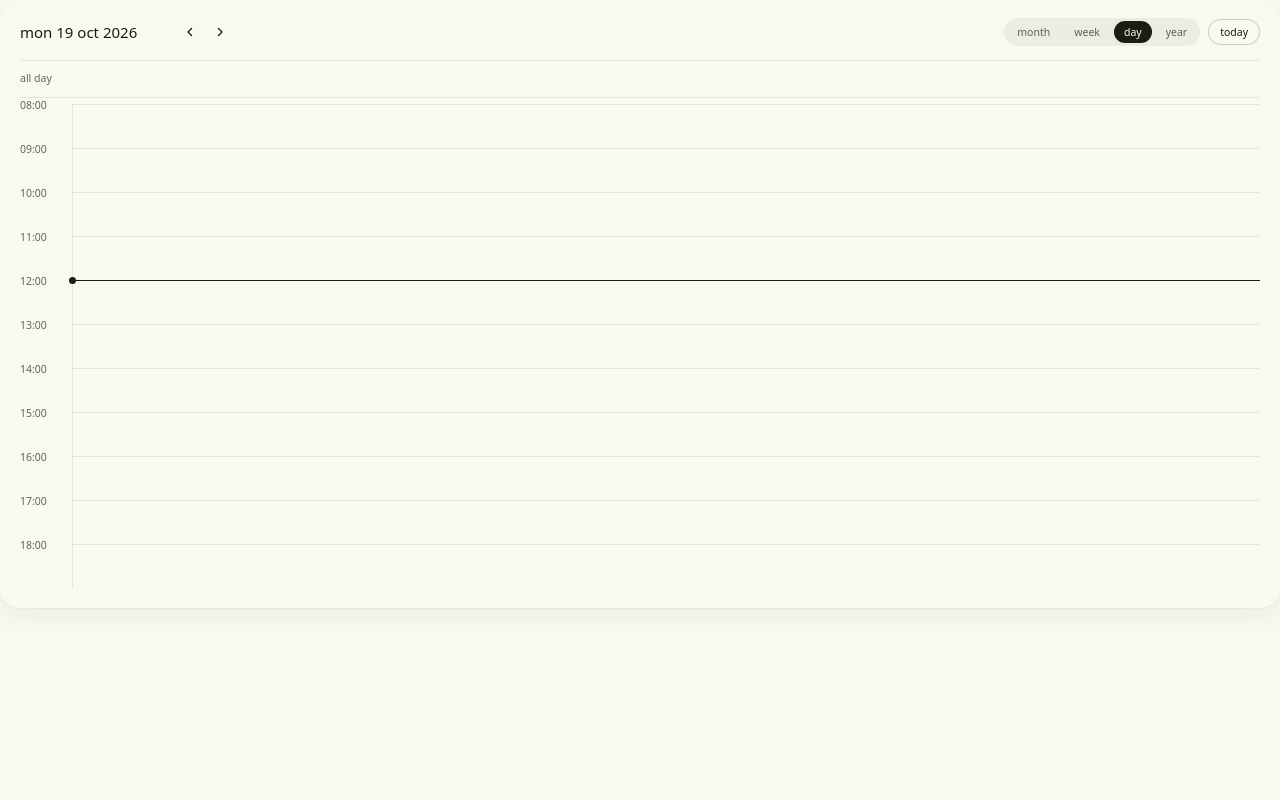
Test: day header (KAN-455) › when the span is day, the period is the day, prev and next step a day, and today stays on the day span
Expected: the text "mon 19 oct 2026" is shown, [20, 22, 137, 42]
Expected: the radio button labelled "day" is checked, [1114, 21, 1152, 43]
Click the button named "Previous day".
click(190, 32)  # box [176, 18, 204, 46]
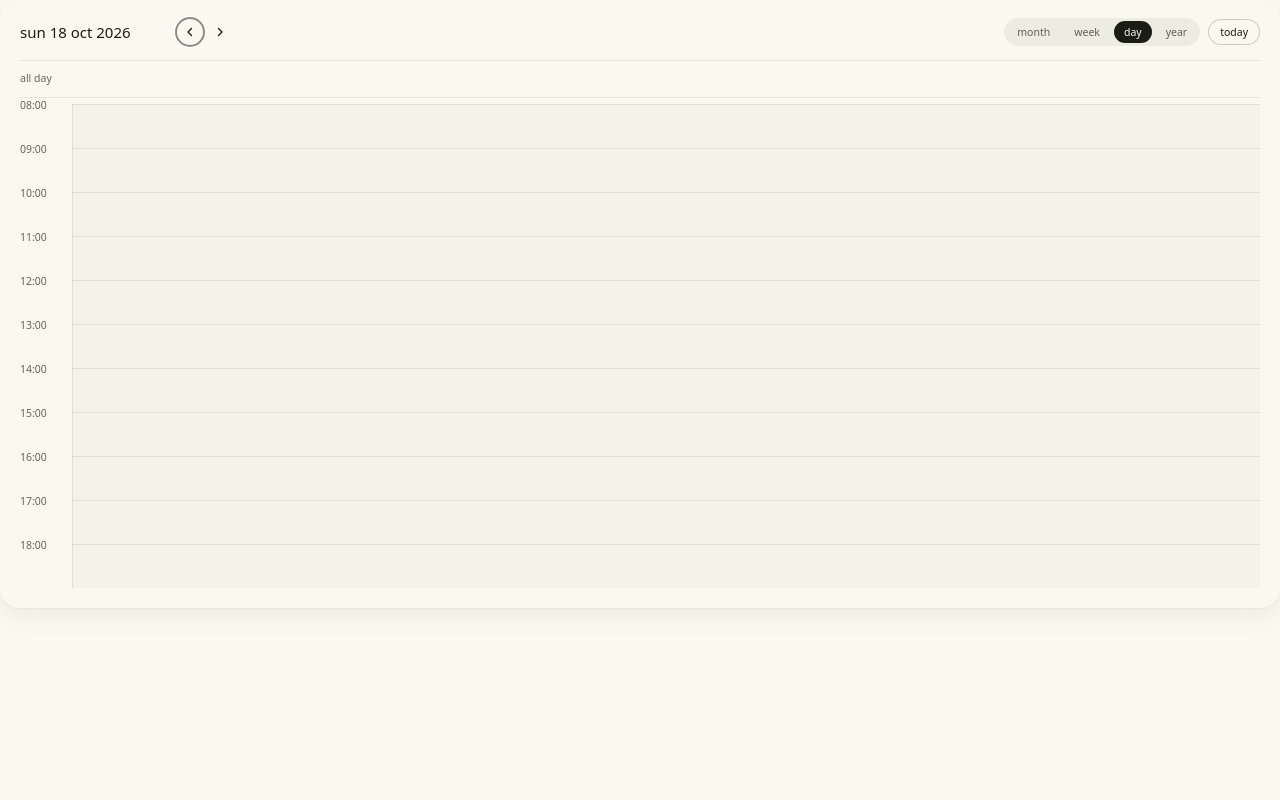
Expected: the radio button labelled "day" is checked, [1114, 21, 1152, 43]
Expected: the text "sun 18 oct 2026" is shown, [20, 22, 131, 42]
Click the button named "Next day".
click(220, 32)  # box [206, 18, 234, 46]
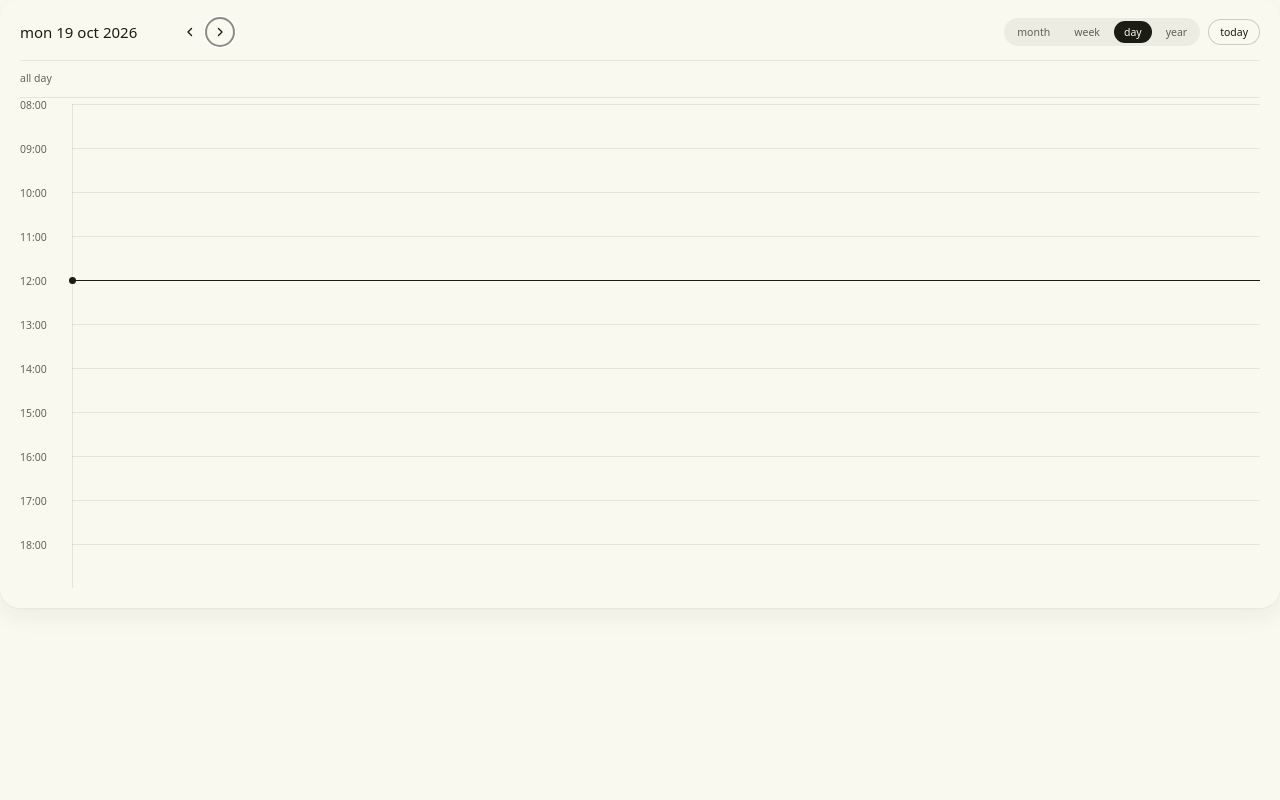
Click the button named "Next day".
click(220, 32)  # box [206, 18, 234, 46]
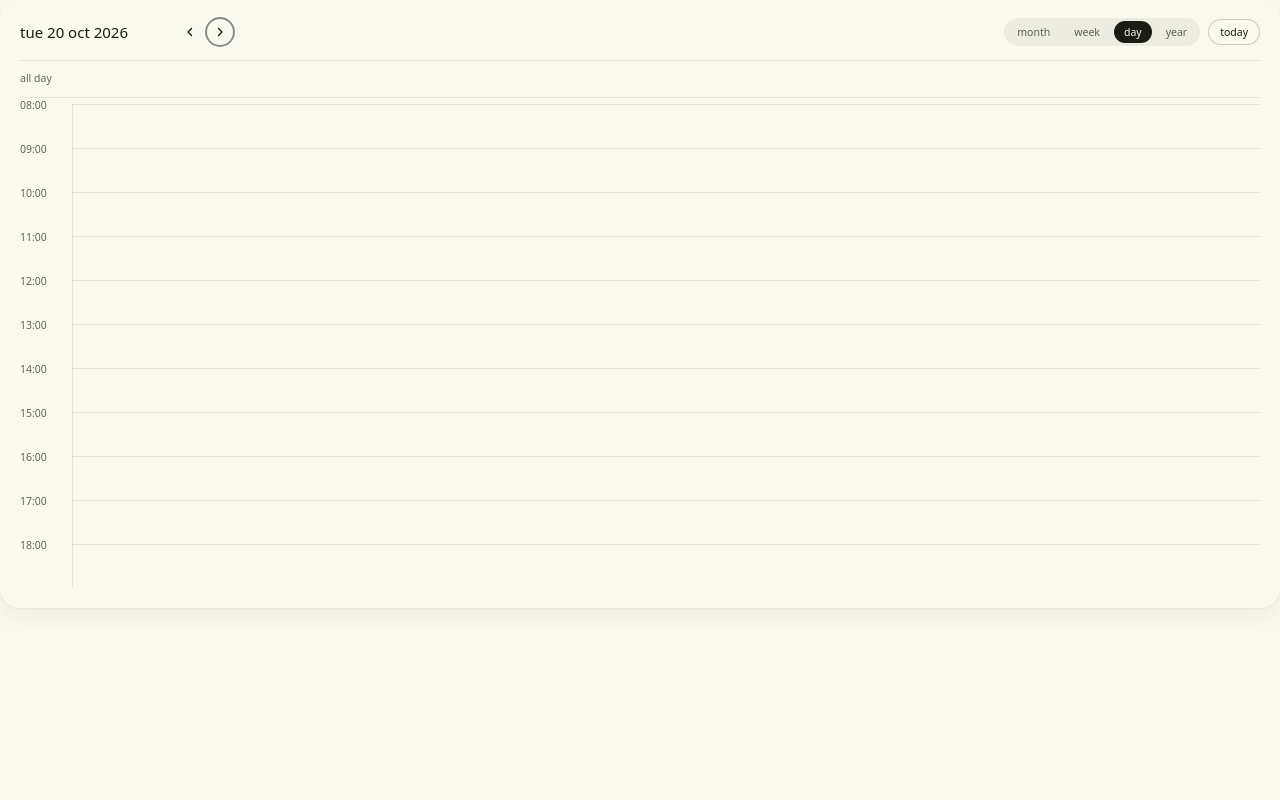
Expected: the radio button labelled "day" is checked, [1114, 21, 1152, 43]
Expected: the text "tue 20 oct 2026" is shown, [20, 22, 128, 42]
Click the button "today".
click(1234, 32)  # box [1208, 19, 1260, 45]
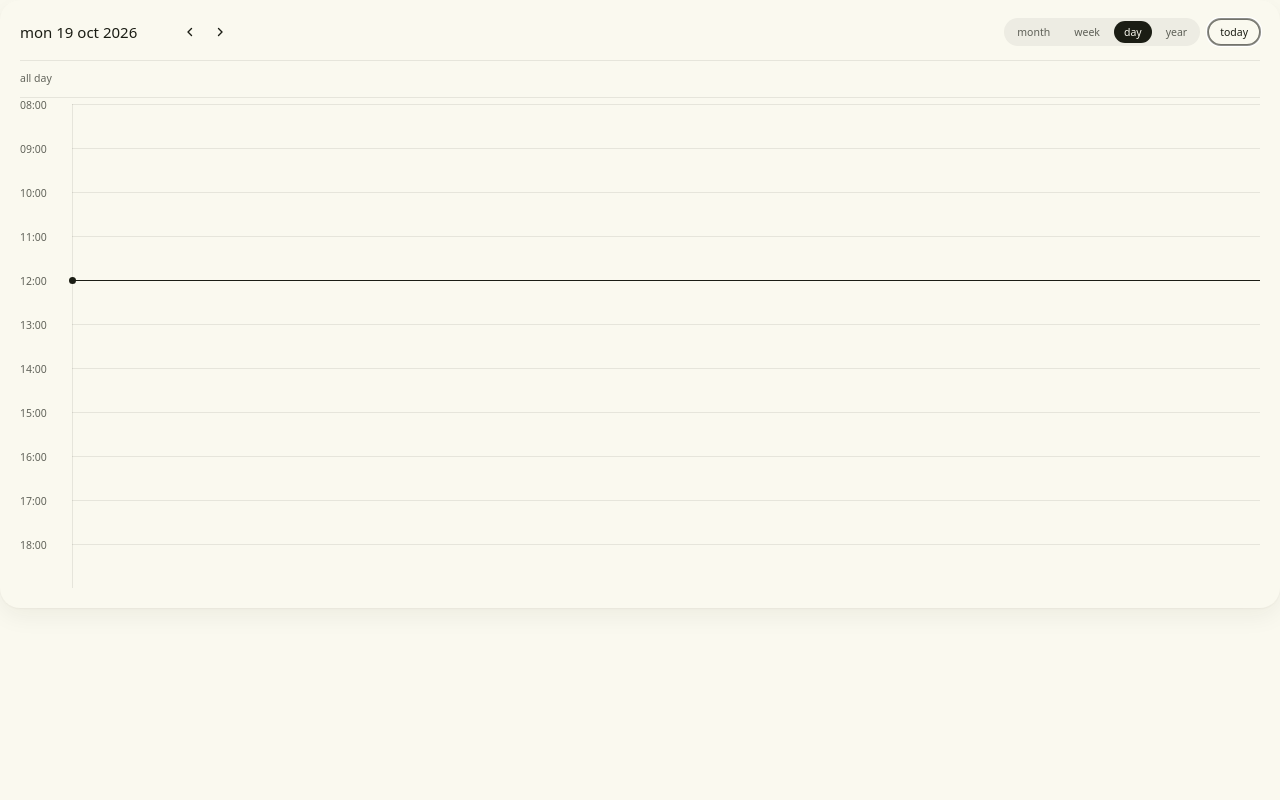
Expected: the radio button labelled "day" is checked, [1114, 21, 1152, 43]
Expected: the text "mon 19 oct 2026" is shown, [20, 22, 137, 42]
